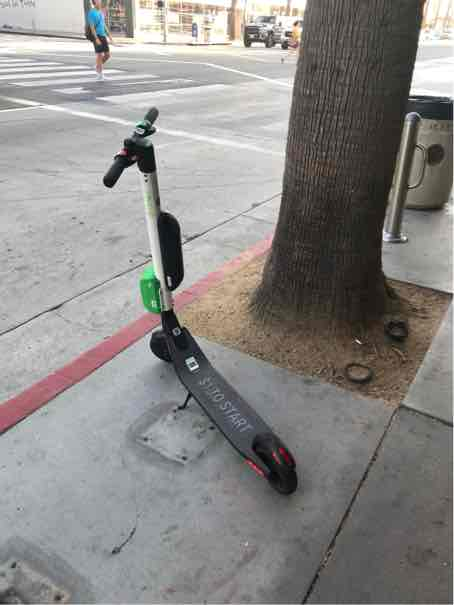scooter: (102, 94, 307, 501)
